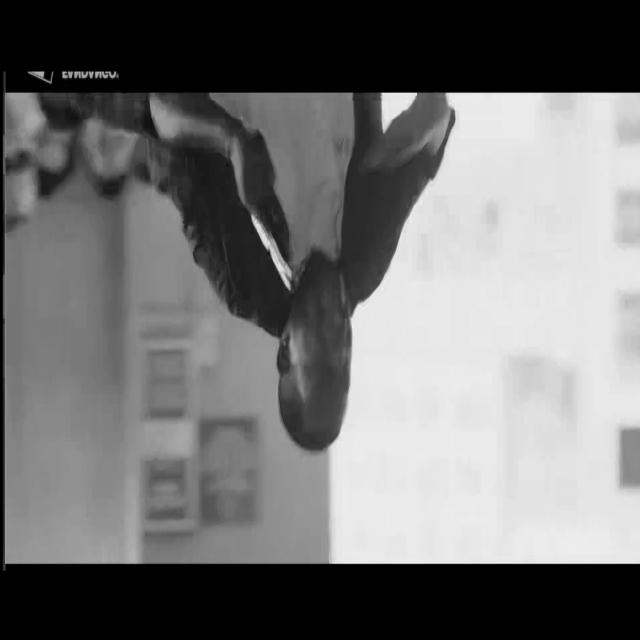weapons: (238, 142, 298, 296)
